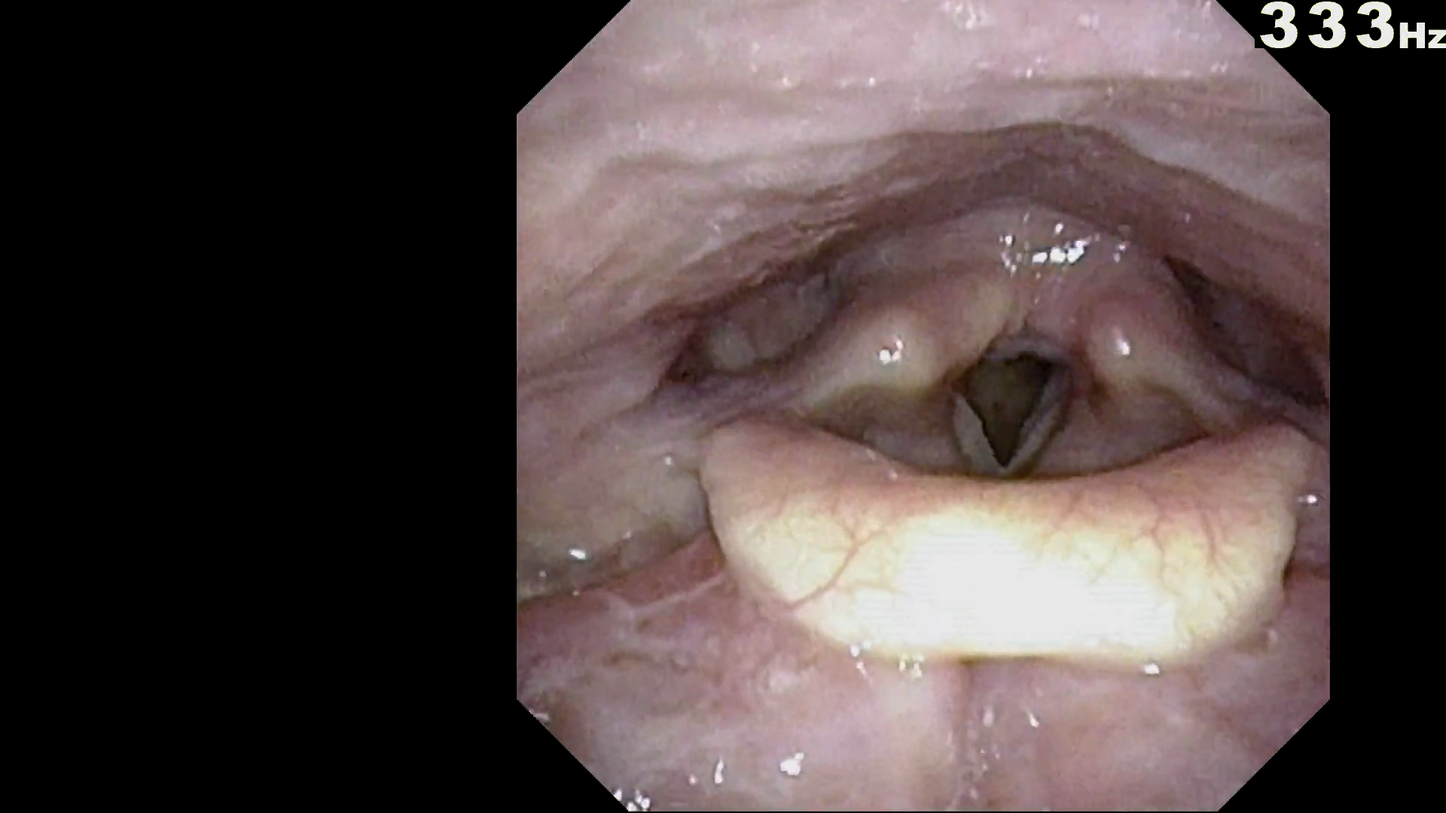epiglottis: (692, 411, 1307, 680)
trachea: (929, 323, 1100, 520)
